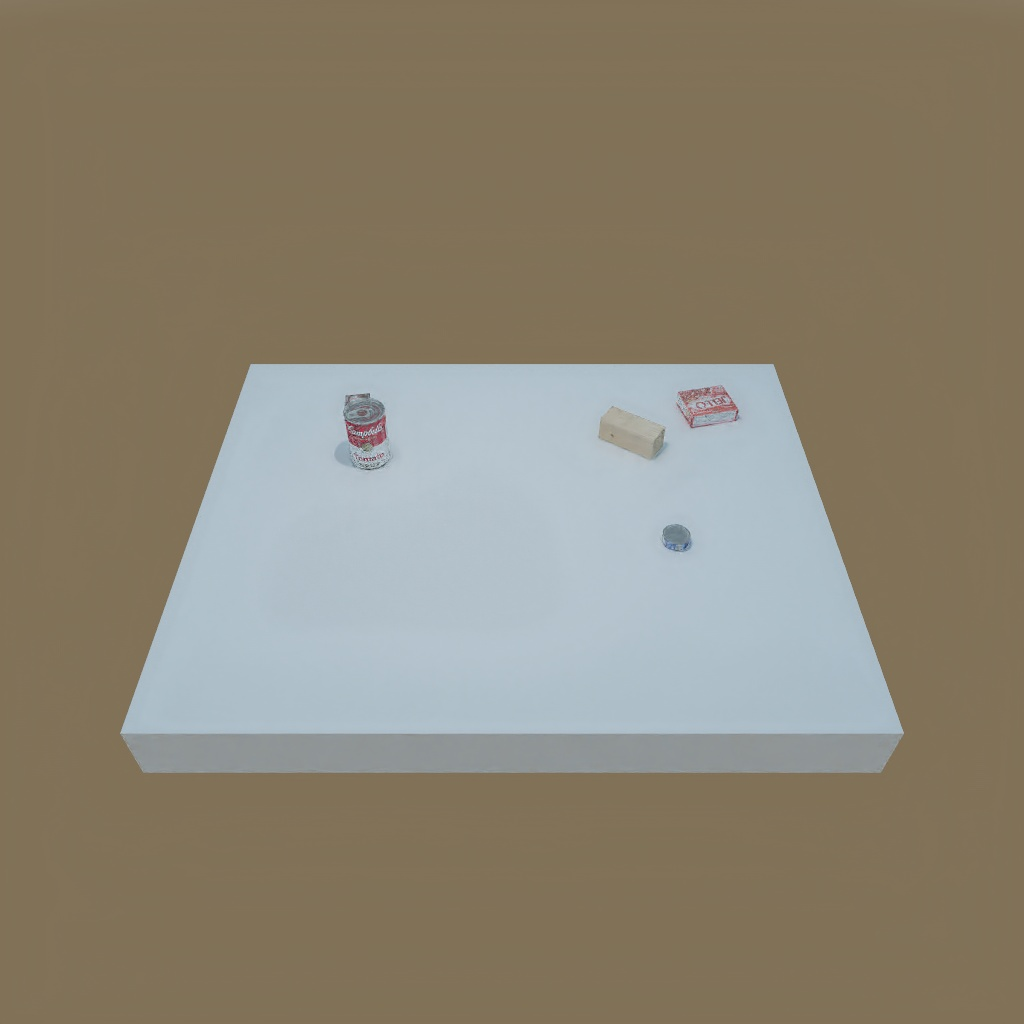gelatin_box: (673, 386, 746, 429)
tomato_soup_can: (340, 396, 392, 475)
wood_block: (594, 409, 666, 461)
